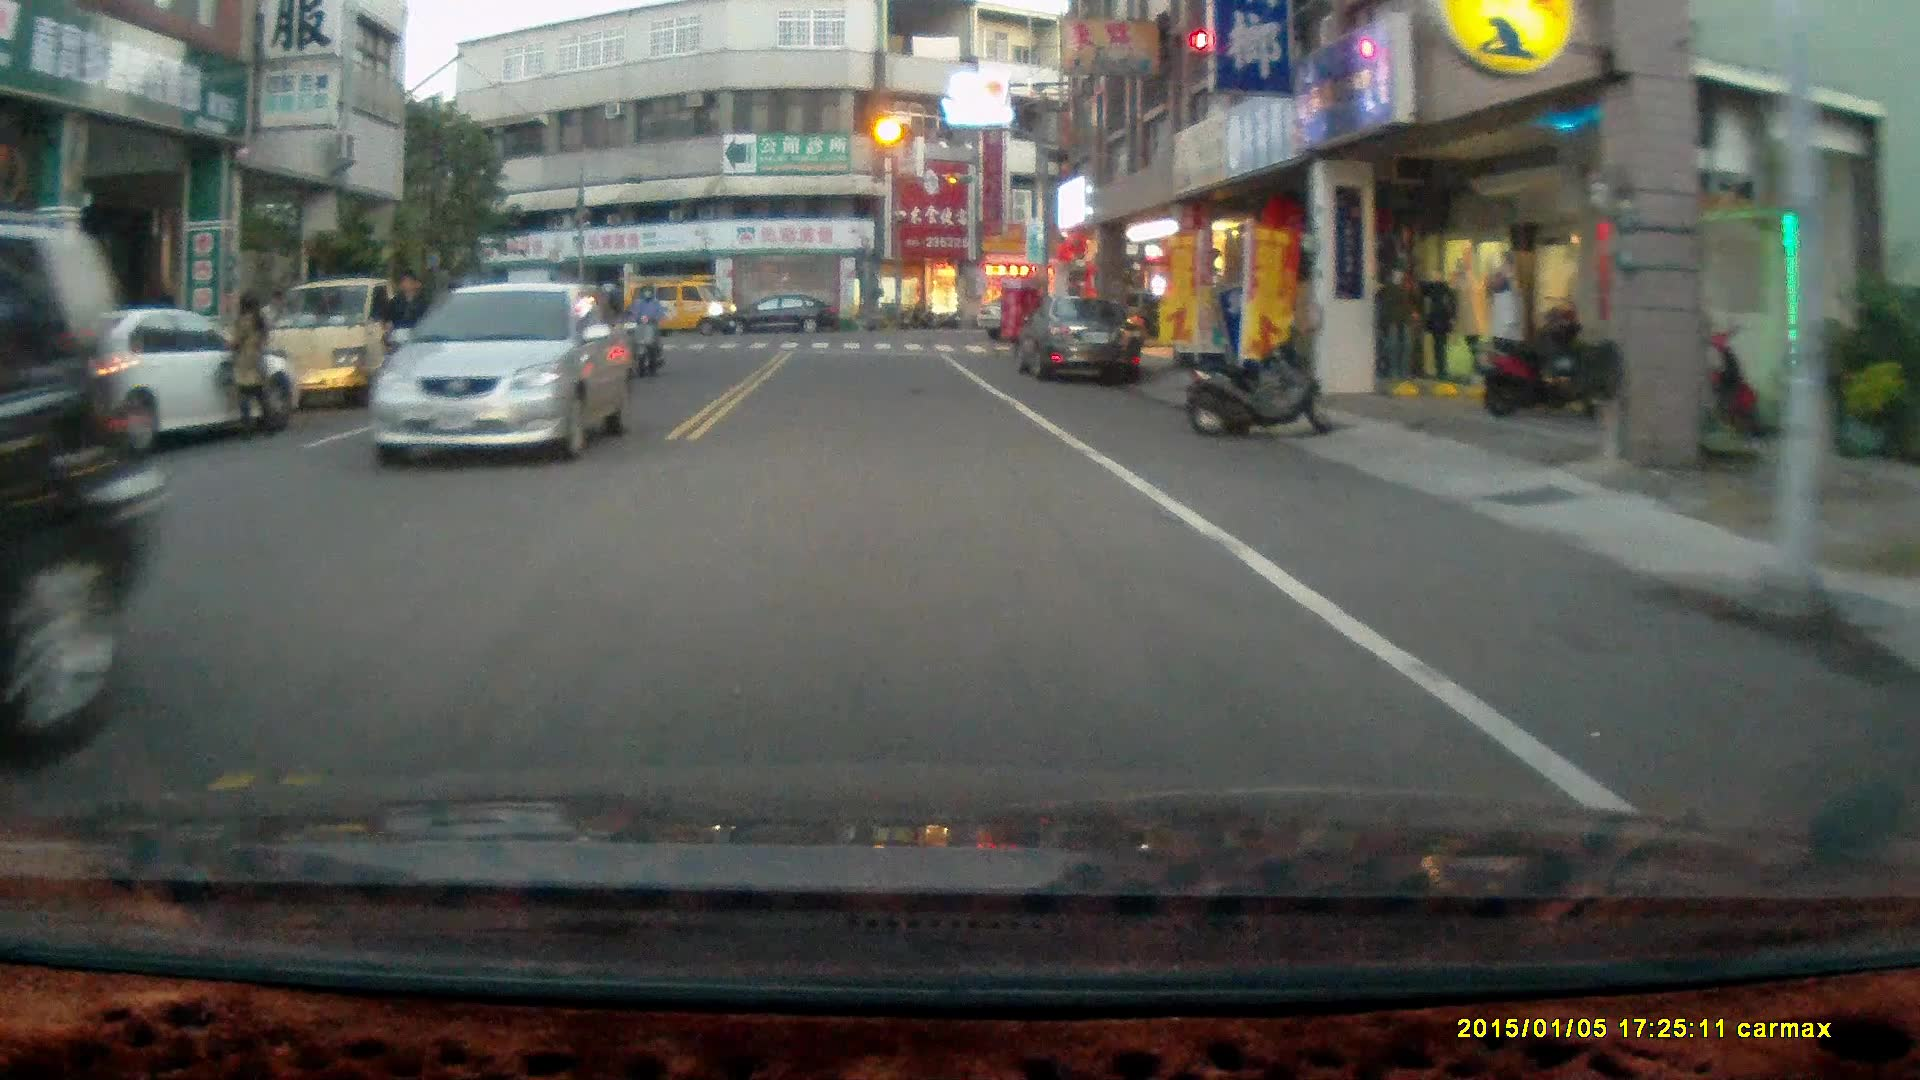pedestrian: (218, 288, 276, 442), (376, 266, 435, 412)
rider: (628, 279, 667, 377)
vehicle: (365, 278, 641, 467), (4, 303, 285, 465), (261, 276, 450, 407), (1012, 288, 1152, 388), (621, 274, 732, 335), (723, 292, 841, 337)
